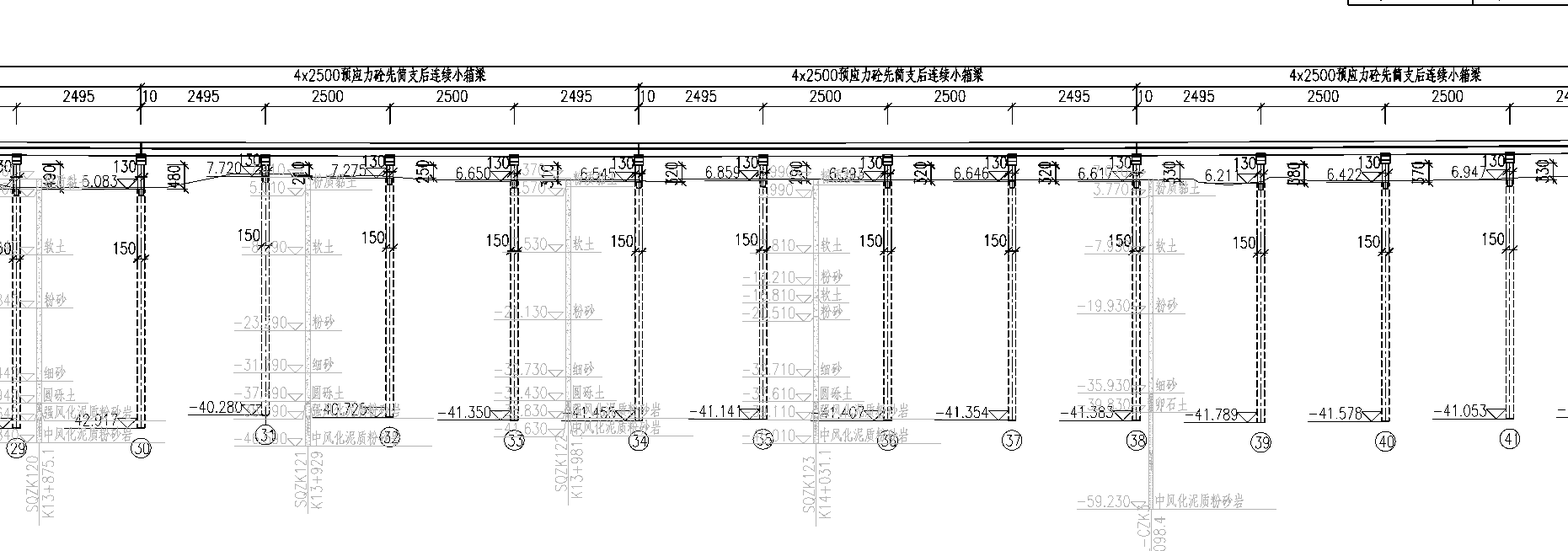C: (60, 145, 162, 465), (1306, 145, 1407, 460), (685, 148, 788, 456), (434, 149, 536, 457), (1182, 147, 1282, 459), (186, 149, 288, 450), (934, 147, 1033, 457), (1432, 146, 1530, 455), (312, 154, 410, 452), (1069, 147, 1159, 457), (821, 149, 907, 457), (575, 147, 660, 457), (0, 147, 37, 466)
